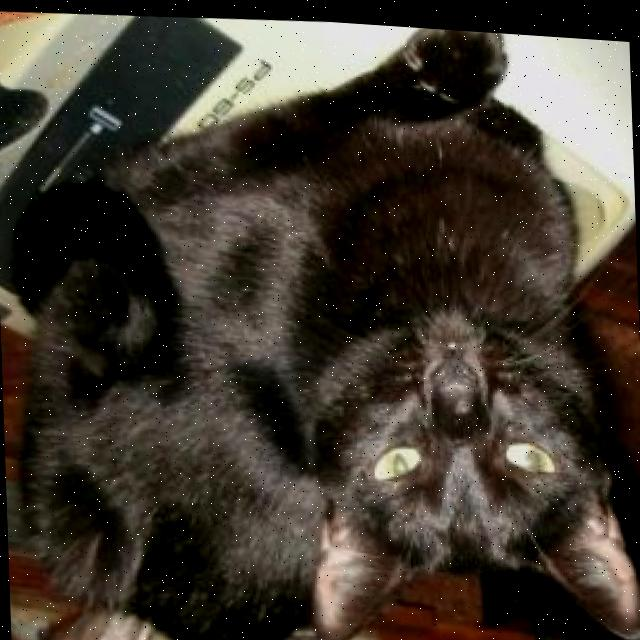Bombay: (1, 0, 640, 640)
